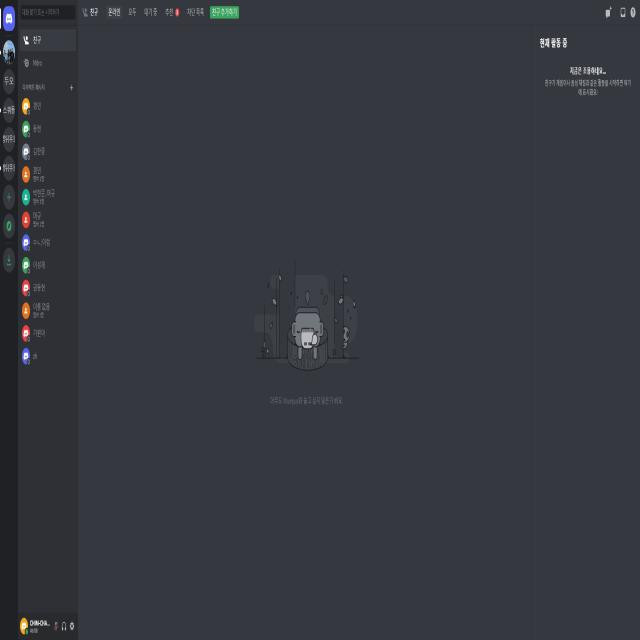search: (20, 3, 75, 19)
tab-bar: (80, 2, 241, 22)
